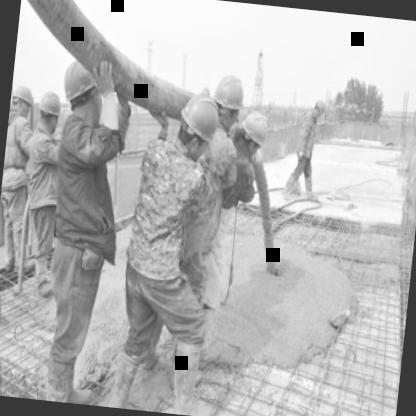helmet: (173, 86, 220, 164), (205, 67, 248, 136), (61, 60, 102, 130), (237, 108, 272, 157), (34, 88, 64, 135), (8, 81, 36, 124), (310, 95, 328, 122)
